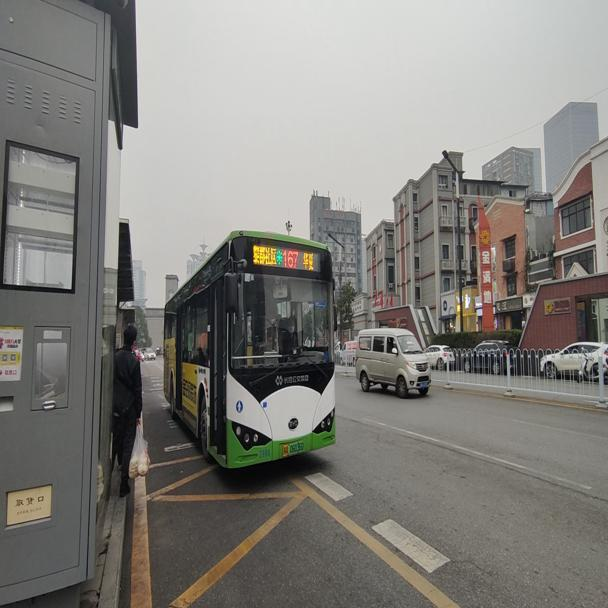bus: (161, 225, 338, 474)
screen: (282, 248, 297, 267)
